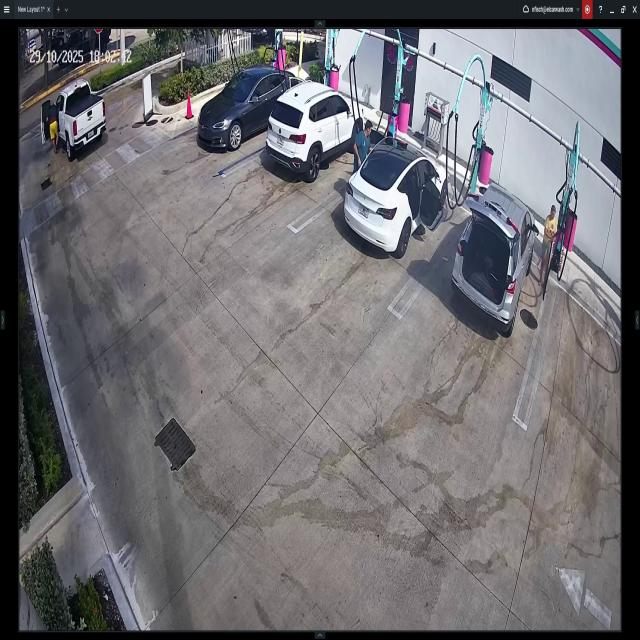Car: (347, 136, 449, 254), (451, 190, 533, 335), (276, 84, 364, 184), (198, 68, 292, 159), (38, 84, 107, 162)
